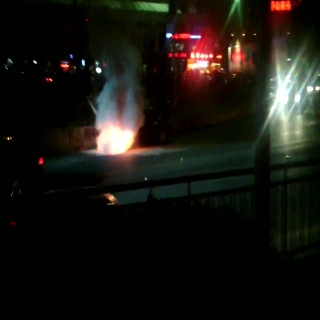fire: (100, 126, 133, 154)
